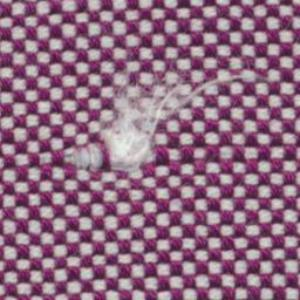fault: (48, 67, 248, 174)
